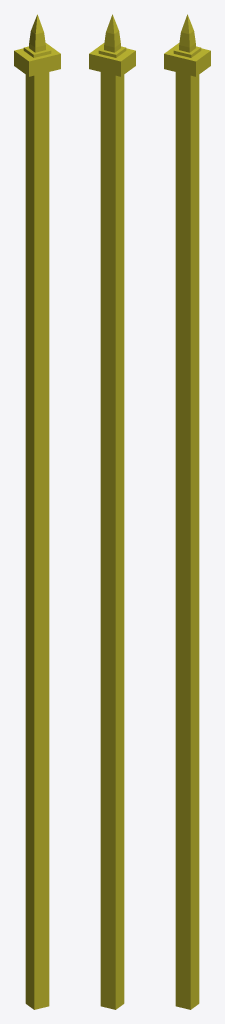
File: SM_fence_ext_end.fbx
3 renders of one model, left to right at view 1: azimuth 30°, elevation 25°; view 2: azimuth 150°, elevation 25°; view 3: azimuth 330°, elevation 25°, orthographic.
Visible parts, largest first — view 1: GRILLAGE002; view 2: GRILLAGE002; view 3: GRILLAGE002.
Part boxes in pixels (box(x1,y1,x2,y2)): GRILLAGE002: box(14, 14, 60, 1009); GRILLAGE002: box(89, 14, 135, 1009); GRILLAGE002: box(164, 14, 210, 1009).
Bounding box in the file's own units: 17.76 × 527 × 14.41.
